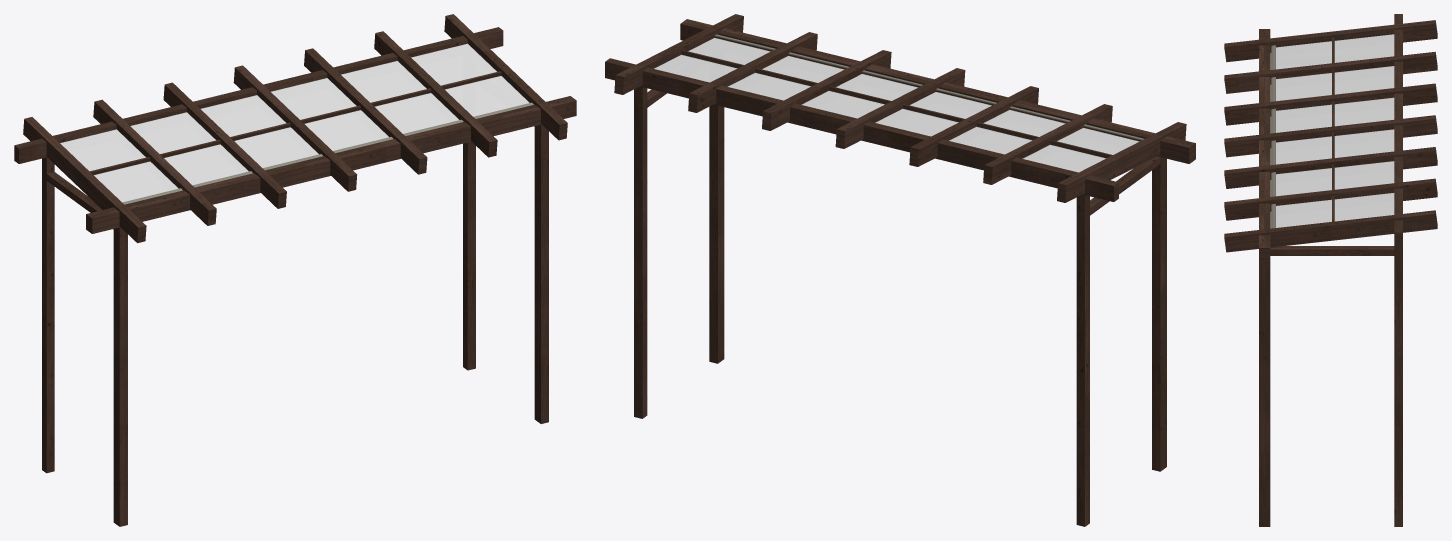
File: 3900-1250_darkpine.fbx
3 renders of one model, left to right at view 1: azimuth 30°, elevation 25°; view 2: azimuth 150°, elevation 25°; view 3: azimuth 270°, elevation 25°, orthographic. The views are drawn at different scales.
Parts seen in each view (by area): view 1: 3900-1250_darkpine; view 2: 3900-1250_darkpine; view 3: 3900-1250_darkpine.
Boxes of the visible parts, box(x1,y1,x2,y2) form: 3900-1250_darkpine: box(14, 14, 576, 526); 3900-1250_darkpine: box(605, 14, 1195, 526); 3900-1250_darkpine: box(1224, 14, 1437, 526).
Bounding box in the file's own units: 448 × 299 × 185.
Materials: 3 (2 with a texture image).
